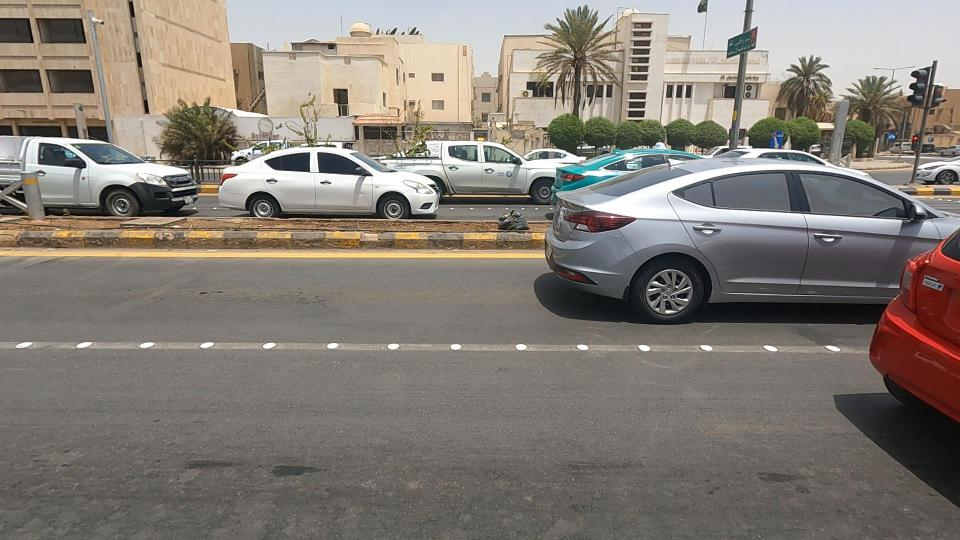GARBAGE: (467, 173, 556, 269)
